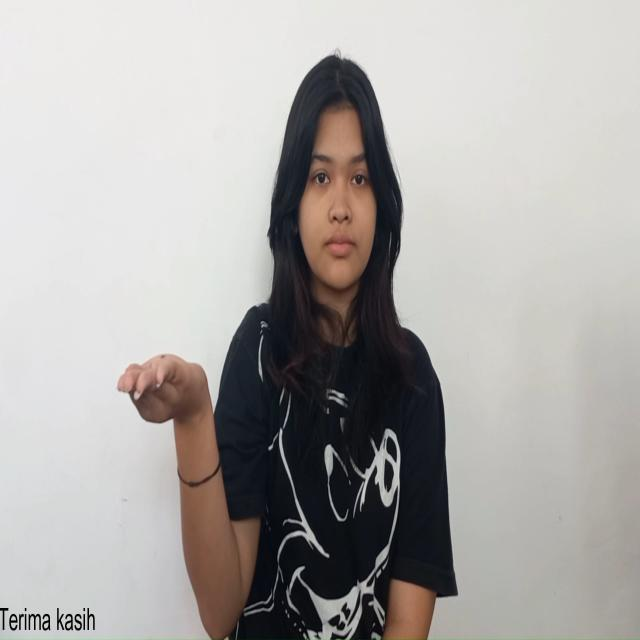Terima kasih -BISINDO-: (114, 348, 213, 431)
